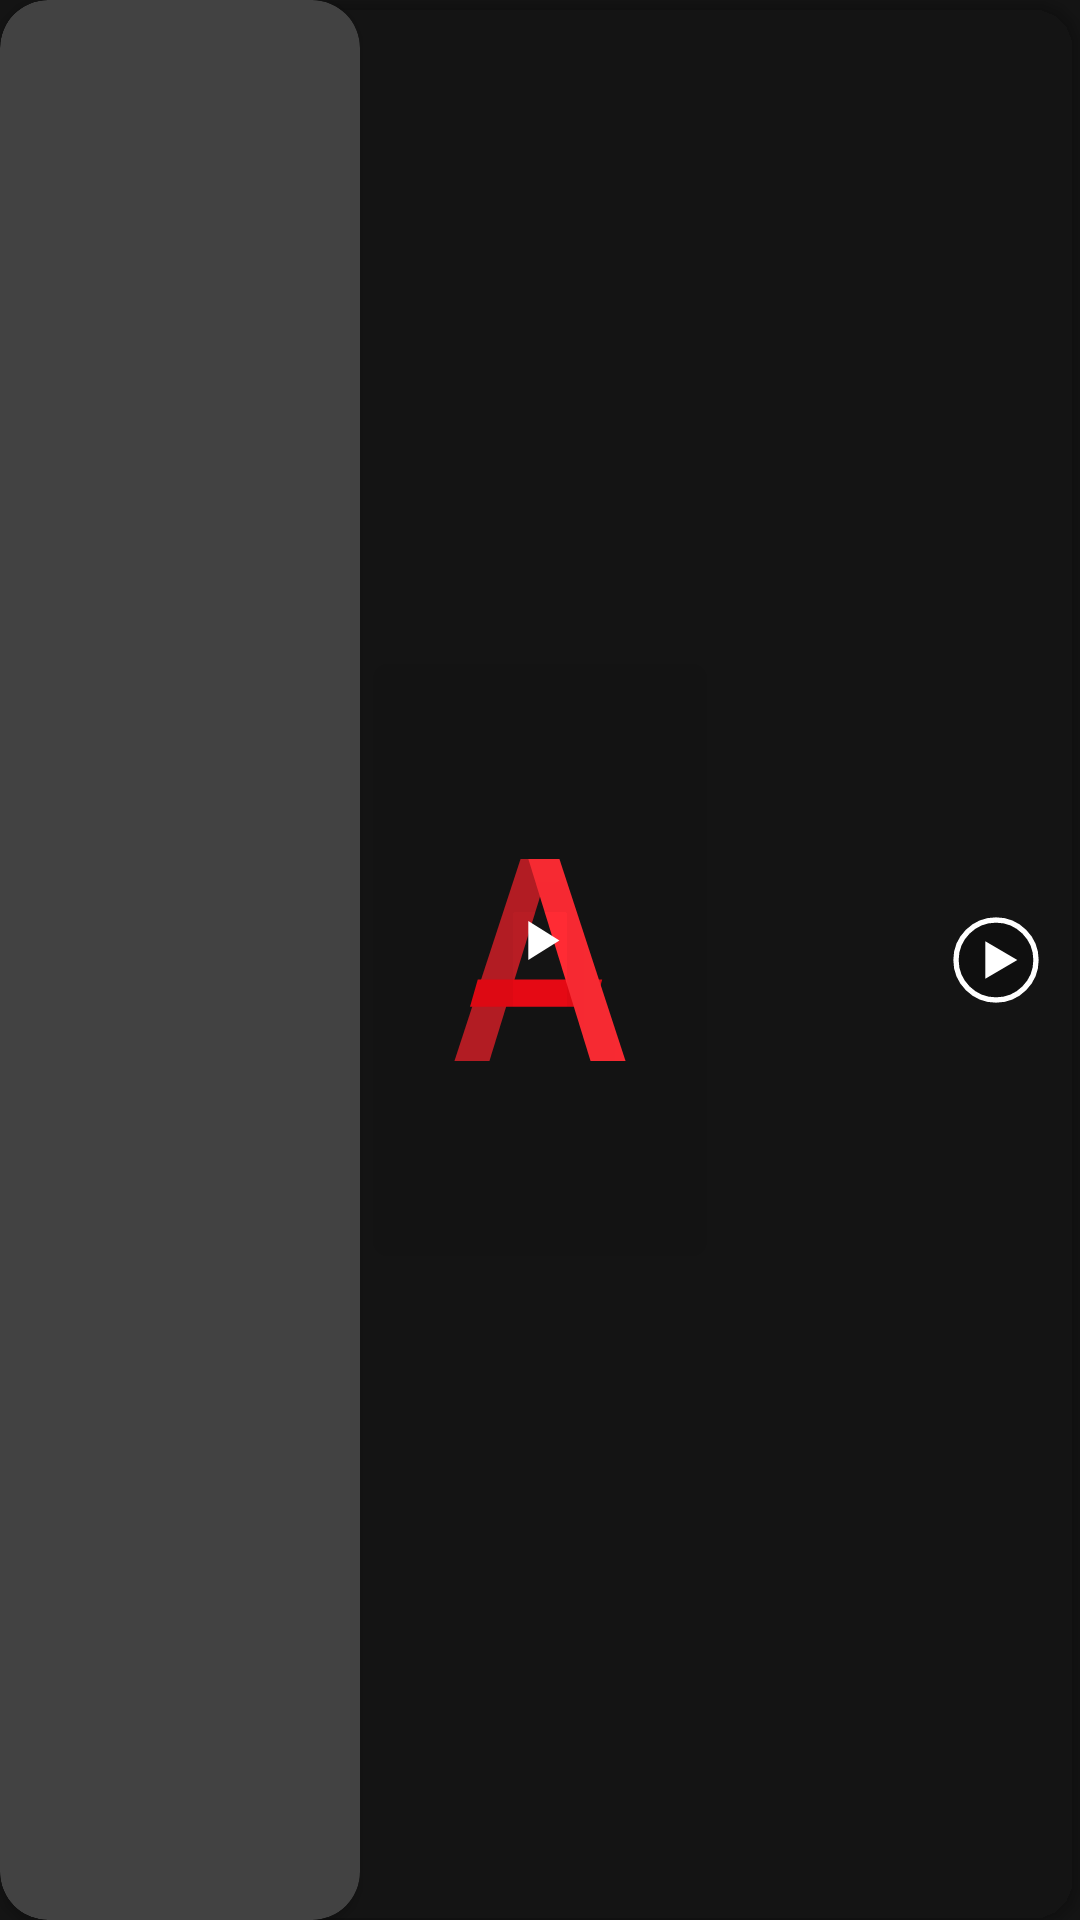

Named icons in this screenshot (1080*1920) and their centers, (x,y):
Play: (996,960)
